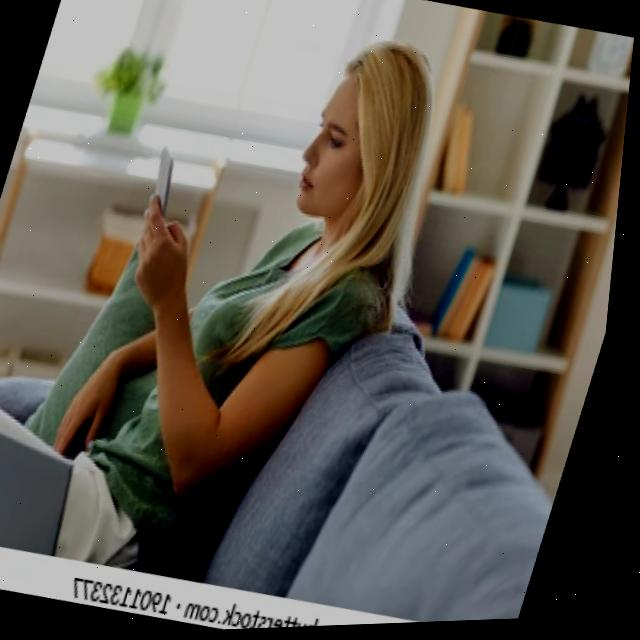smartphone-person: (30, 0, 477, 608)
